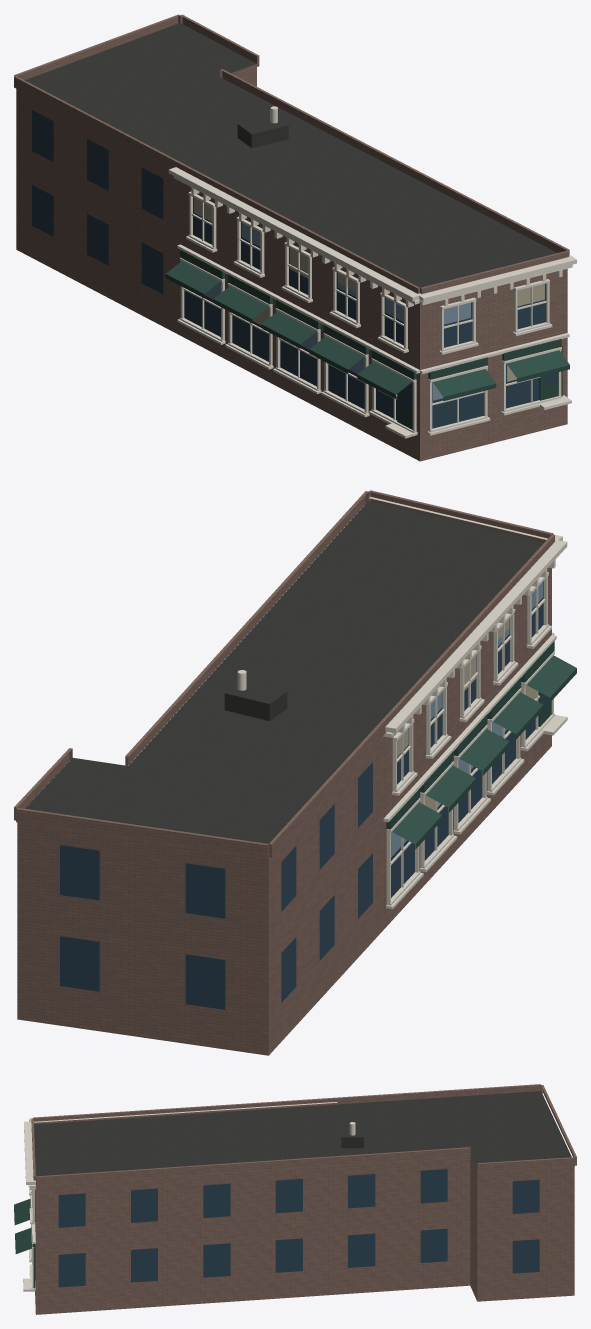
3 views of the same model, one above another, from view 1: azimuth 30°, elevation 25°; view 2: azimuth 150°, elevation 25°; view 3: azimuth 270°, elevation 25° (orthographic). The views are drawn at different scales.
Parts seen in each view (by area): view 1: Footprint 0 / surface 2, Footprint 0 / surface 1, Cornices and window frames, Inset glazing, Storefronts and doors, Facade bay volumes, Sky reflection panels, Interior blind variation; view 2: Footprint 0 / surface 2, Footprint 0 / surface 1, Inset glazing, Cornices and window frames, Facade bay volumes, Storefronts and doors, Sky reflection panels, Inferred rooftop service enclosure / surface 6, Interior blind variation, Inferred rooftop service enclosure / surface 3; view 3: Footprint 0 / surface 2, Footprint 0 / surface 1, Inset glazing, Facade bay volumes, Cornices and window frames, Storefronts and doors.
Boxes of the visible parts, box(x1,y1,x2,y2) form: Footprint 0 / surface 2: box(16, 64, 567, 461); Footprint 0 / surface 1: box(25, 23, 556, 287); Cornices and window frames: box(168, 167, 576, 438); Inset glazing: box(32, 110, 558, 428); Storefronts and doors: box(165, 249, 569, 429); Facade bay volumes: box(14, 14, 569, 294); Sky reflection panels: box(193, 197, 544, 400); Interior blind variation: box(194, 197, 544, 399); Footprint 0 / surface 2: box(17, 567, 551, 1055); Footprint 0 / surface 1: box(25, 501, 544, 843); Inset glazing: box(60, 581, 549, 1009); Cornices and window frames: box(369, 497, 567, 909); Facade bay volumes: box(14, 490, 554, 858); Storefronts and doors: box(386, 641, 576, 849); Sky reflection panels: box(391, 582, 542, 857); Inferred rooftop service enclosure / surface 6: box(224, 693, 269, 720); Interior blind variation: box(397, 619, 535, 810); Inferred rooftop service enclosure / surface 3: box(225, 681, 286, 703); Footprint 0 / surface 2: box(35, 1155, 574, 1314); Footprint 0 / surface 1: box(34, 1091, 571, 1176); Inset glazing: box(58, 1169, 539, 1287); Facade bay volumes: box(31, 1084, 576, 1185); Cornices and window frames: box(23, 1102, 337, 1291); Storefronts and doors: box(14, 1195, 35, 1288).
Bounding box in the file's own units: 11.67 × 9.01 × 29.69.
